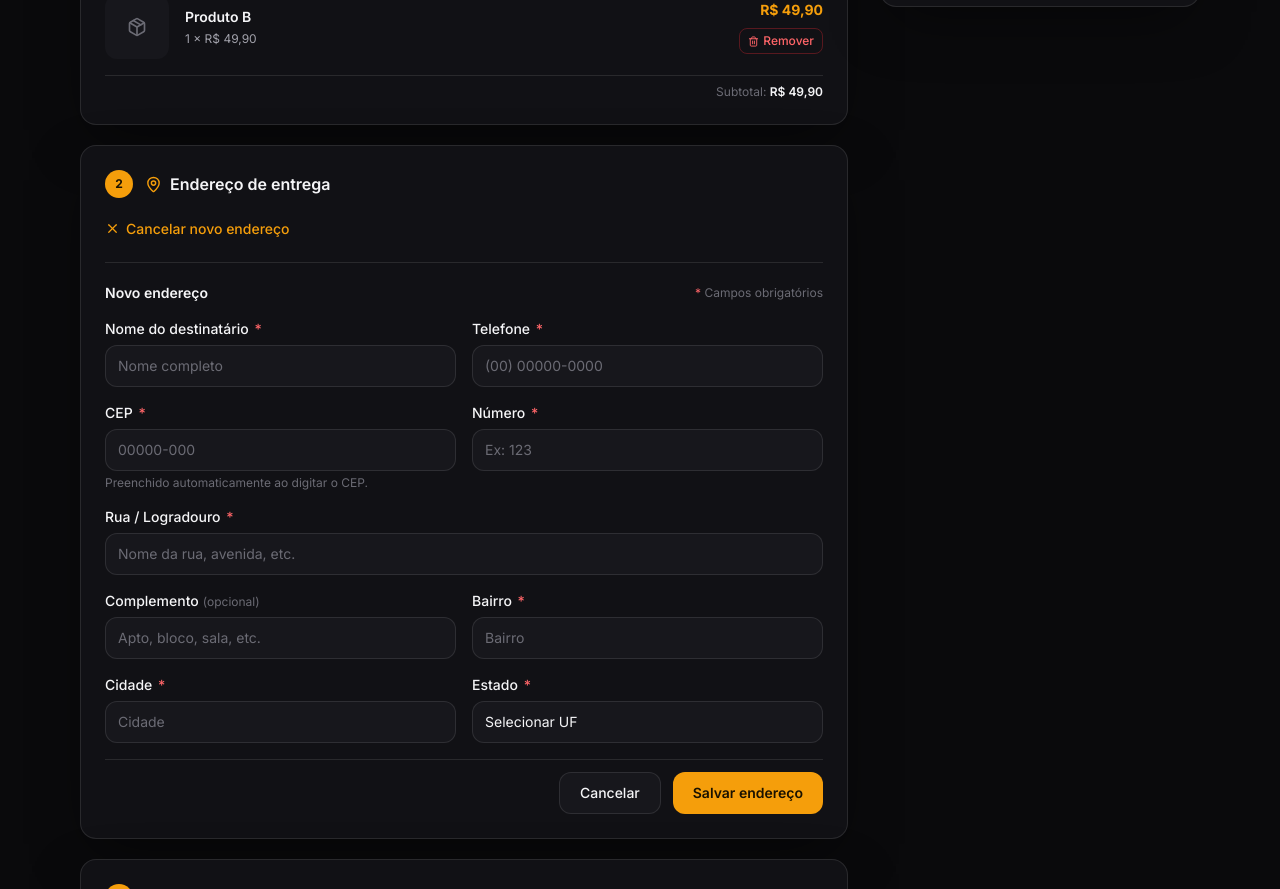
Test: ClientCheckout › lookup de CEP › preenche street, neighborhood, city e state com a resposta do CEP
The image size is (1280, 889).
(page scrolled)
Type "01310100" into the field labelled "CEP *" at (280, 450), box [105,429,456,471]
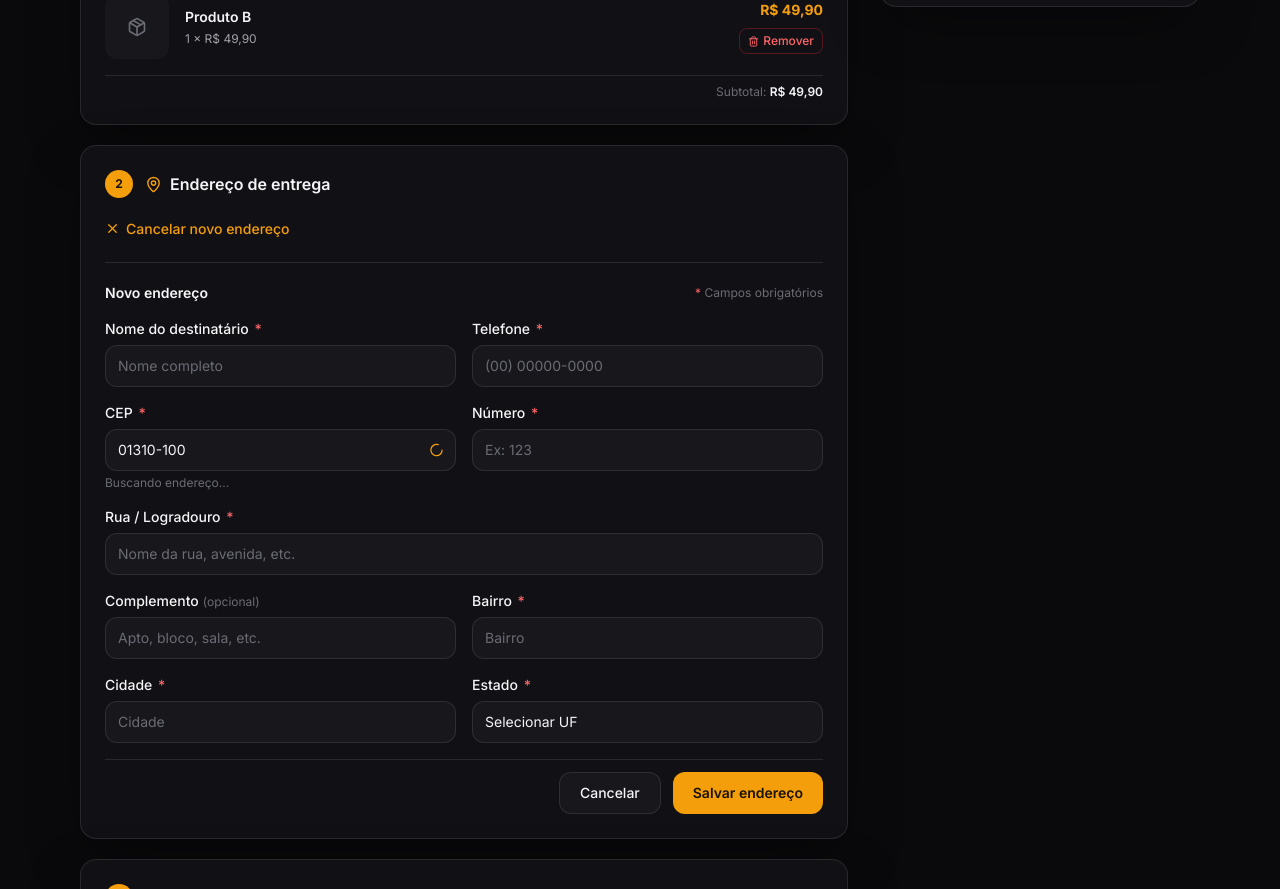
Leave the field labelled "CEP *", box [105,429,456,471]
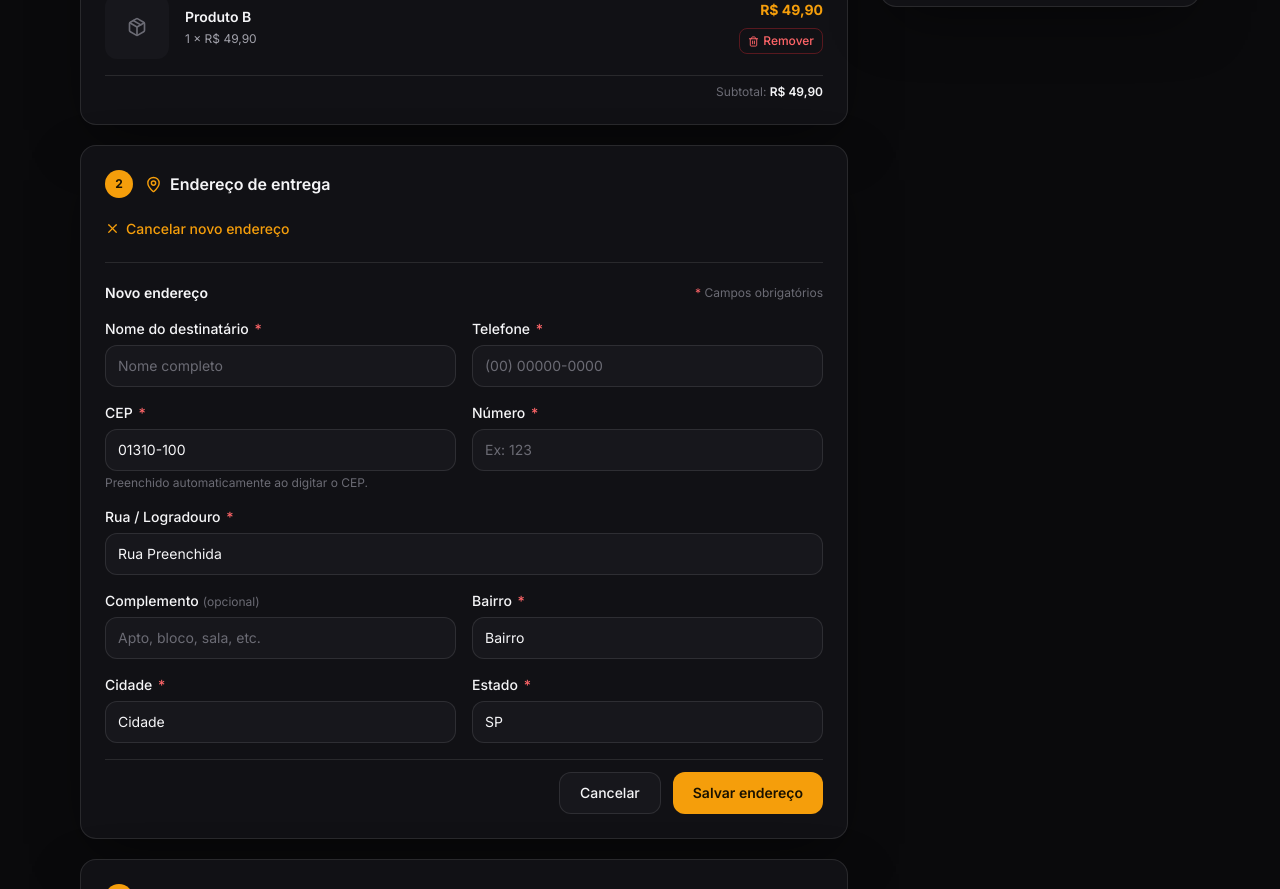
Check: the field labelled "Rua / Logradouro *" holds "Rua Preenchida", box [105,533,823,575]
